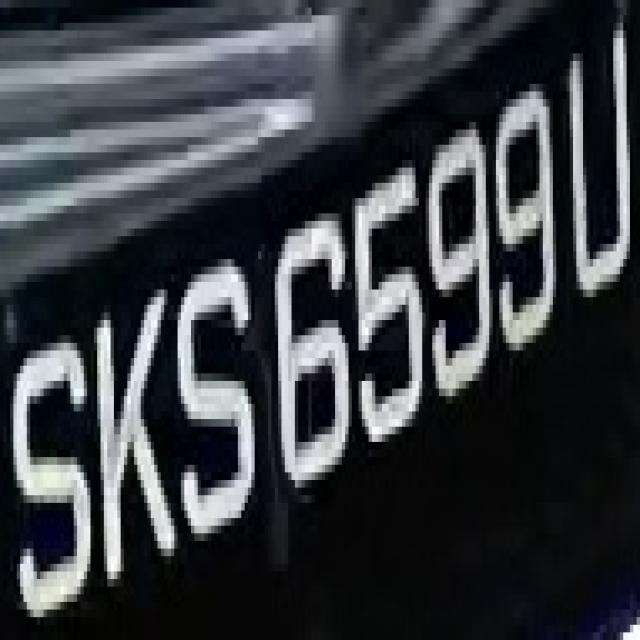5: (348, 137, 432, 457)
6: (268, 175, 359, 518)
9: (482, 76, 563, 381), (426, 137, 499, 404)
K: (80, 274, 174, 602)
S: (6, 320, 110, 632), (178, 228, 262, 564)
U: (563, 31, 630, 336)
